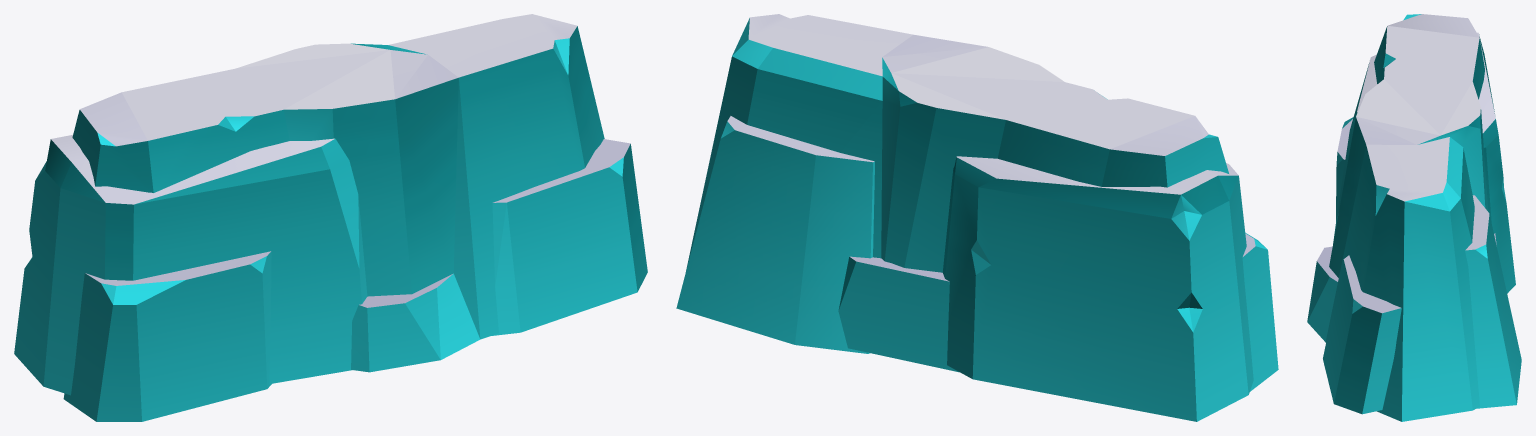
File: arctic-cliff.obj
The picture shows the model from 3 angles, left to right: view 1: azimuth 30°, elevation 25°; view 2: azimuth 150°, elevation 25°; view 3: azimuth 270°, elevation 25°; orthographic projection. The views are drawn at different scales.
Visible parts, largest first — view 1: arctic-cliff; view 2: arctic-cliff; view 3: arctic-cliff.
Boxes of the visible parts, x1,y1,x2,y2 form: arctic-cliff: [14, 14, 647, 421]; arctic-cliff: [676, 14, 1278, 421]; arctic-cliff: [1307, 14, 1521, 421].
Bounding box in the file's own units: 11.45 × 4.83 × 4.54.
Materials: 1 (1 with a texture image).
